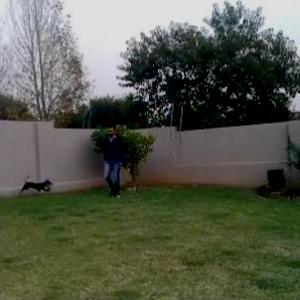follow: (102, 122, 126, 202)
